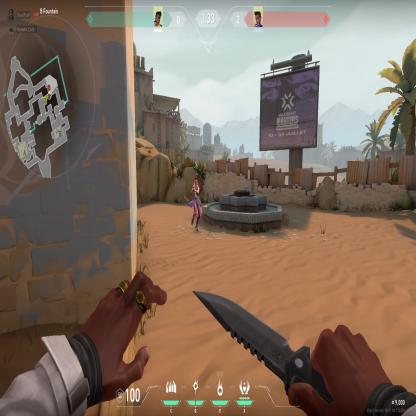enemy: (190, 174, 201, 233)
